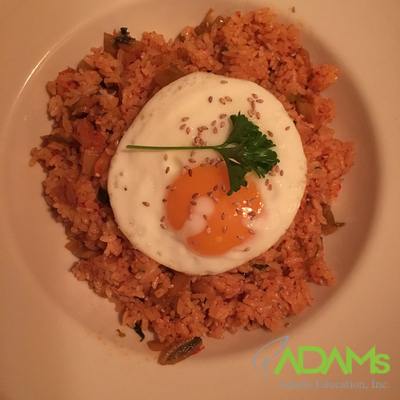fried egg: (123, 82, 295, 253)
